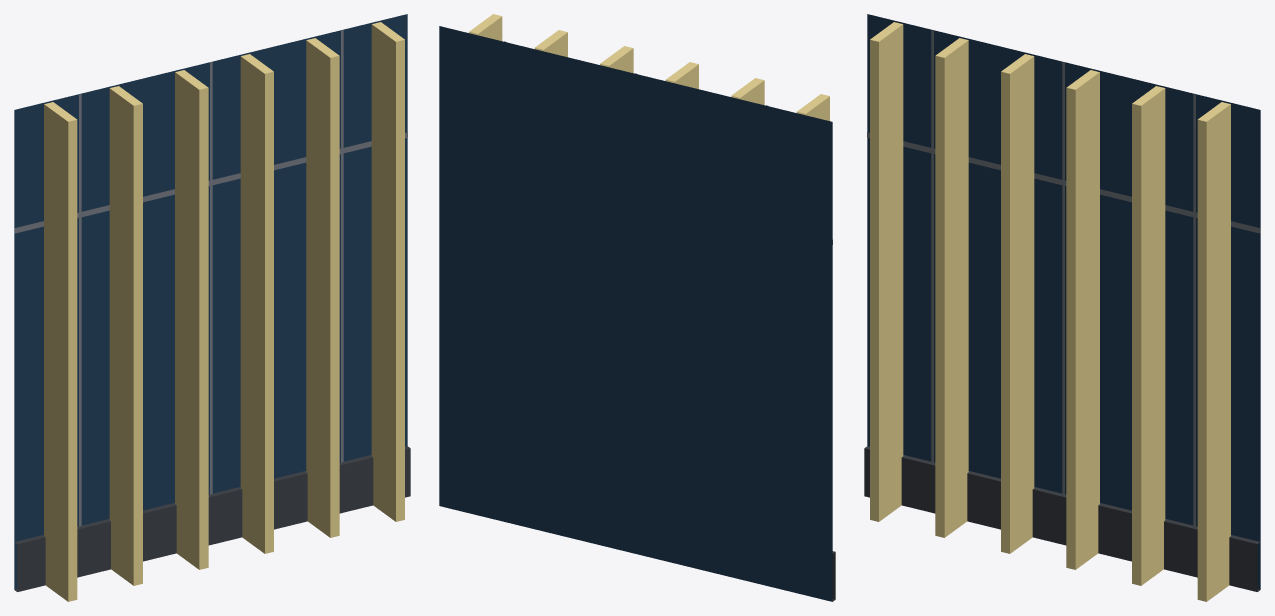
Rendered from mid-w1_close.fbx.
The picture shows the model from 3 angles, left to right: view 1: azimuth 30°, elevation 25°; view 2: azimuth 150°, elevation 25°; view 3: azimuth 330°, elevation 25°; orthographic projection.
Parts seen in each view (by area): view 1: a2009/800/mid-w1_close; view 2: a2009/800/mid-w1_close; view 3: a2009/800/mid-w1_close.
Boxes of the visible parts, x1,y1,x2,y2 form: a2009/800/mid-w1_close: [14, 14, 410, 601]; a2009/800/mid-w1_close: [439, 14, 835, 601]; a2009/800/mid-w1_close: [864, 14, 1260, 601].
Bounding box in the file's own units: 3 × 3.5 × 0.34.
